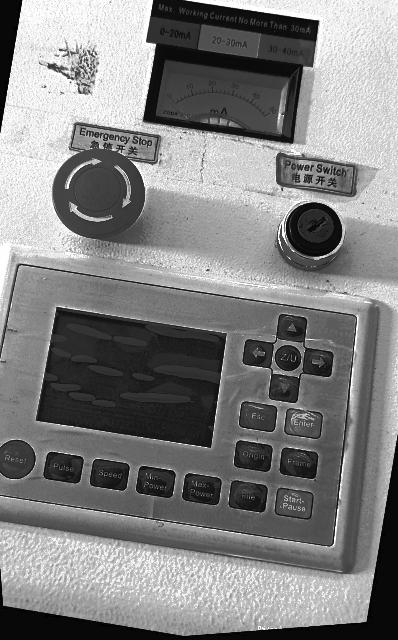Amp_Meter: (146, 48, 301, 140)
Display: (36, 308, 226, 447)
Down_button: (269, 374, 299, 402)
Emergency_Stop: (52, 148, 145, 238)
Enter_button: (285, 409, 322, 438)
Esc_button: (239, 402, 277, 432)
File_button: (229, 481, 267, 512)
Frame_button: (280, 448, 318, 478)
Left_button: (243, 340, 273, 367)
Max-Power_button: (183, 474, 221, 505)
Min-Power_button: (137, 467, 175, 498)
Origin_button: (234, 441, 272, 471)
Power_switch: (278, 203, 344, 270)
Pulse_button: (44, 452, 83, 483)
Reset_button: (0, 440, 35, 479)
Right_button: (303, 349, 333, 377)
Speed_button: (90, 459, 129, 490)
Start-Pause_button: (275, 488, 313, 519)
Up_button: (277, 315, 307, 343)
Z_U_button: (275, 345, 301, 371)
